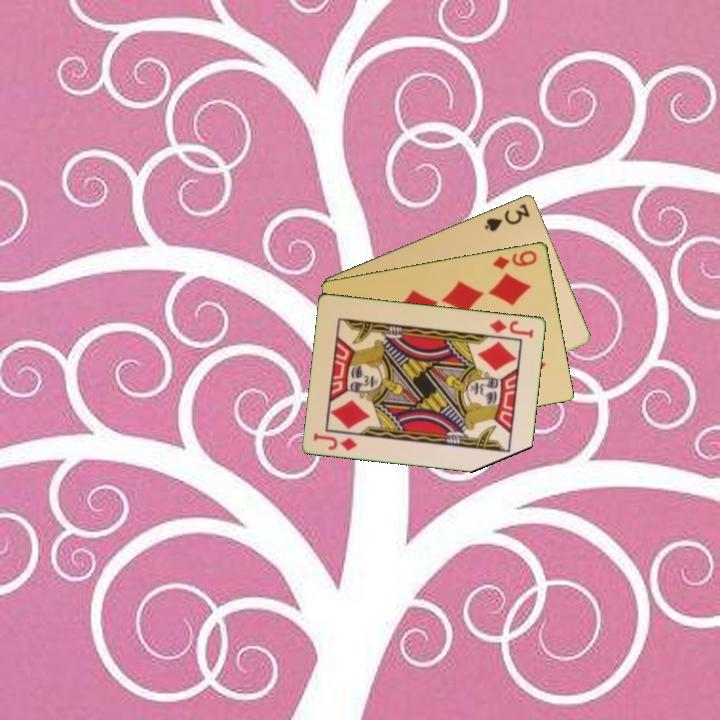3s: (481, 200, 533, 234)
9d: (489, 246, 540, 272)
Jd: (486, 316, 537, 341), (310, 429, 360, 453)
